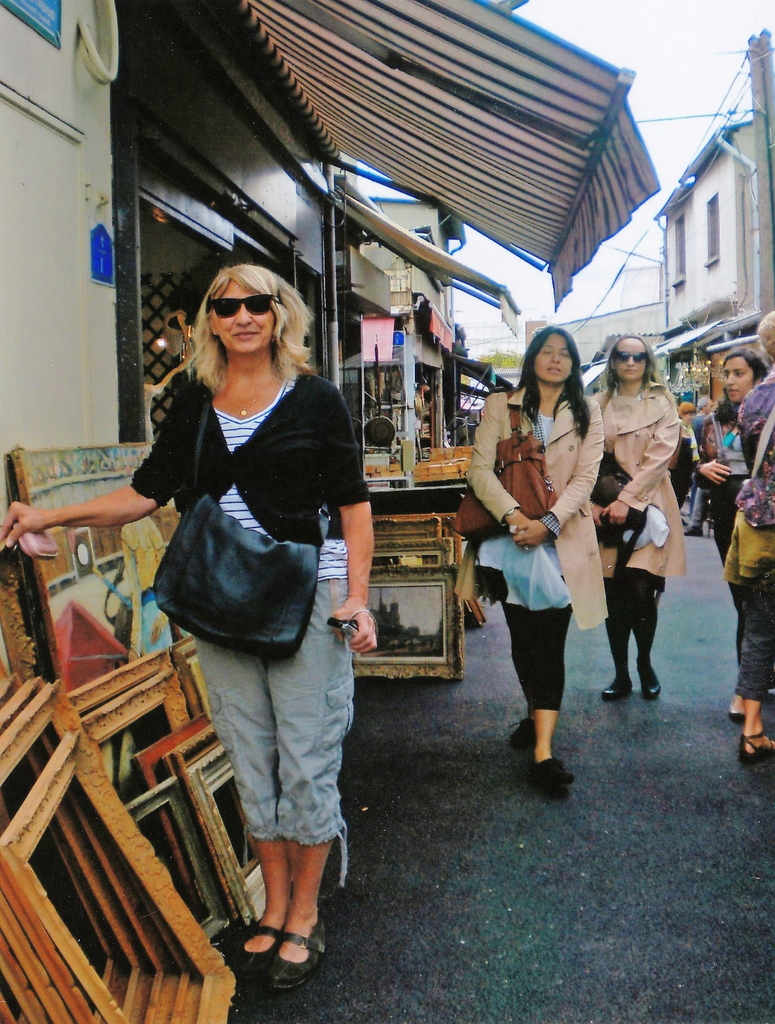Footwear: (271, 934, 334, 995), (533, 759, 577, 787), (742, 727, 774, 765), (507, 715, 537, 750), (684, 522, 721, 541), (727, 702, 751, 730), (604, 682, 633, 703), (640, 676, 661, 697), (726, 710, 742, 725)
